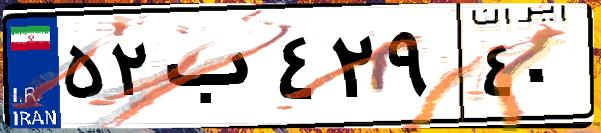0: (525, 38, 570, 115)
2: (330, 28, 385, 110), (110, 28, 158, 98)
4: (270, 28, 330, 110), (475, 38, 525, 113)
5: (57, 26, 110, 100)
9: (385, 28, 445, 110)
ب: (158, 20, 270, 120)
